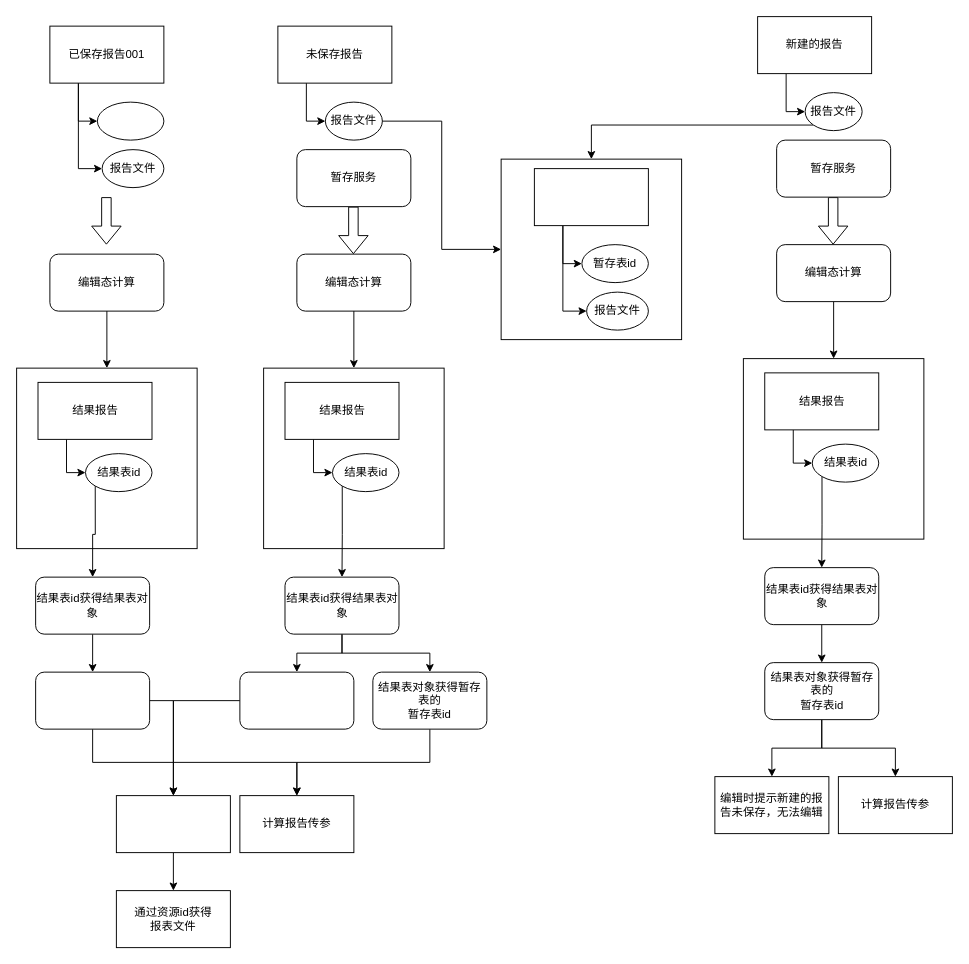
Image size: 969x964. Some labels were removed from this diagram. The centre of each missing label's shape, as x and y in pixels:
"暂存报告" belongs at (590,197).
"结果表对象获得原表的 资源id" belongs at (92,700).
"结果表对象获得原表的资源id" belongs at (296,700).
"编辑报告传参" belongs at (172,824).
"资源id" belongs at (130,120).
